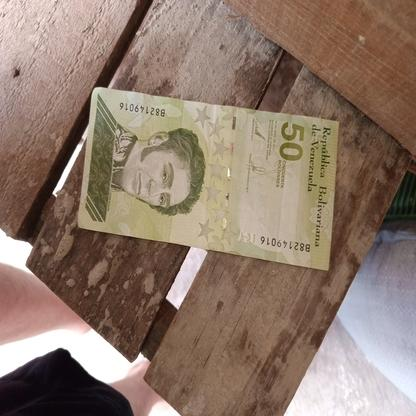fifty-front-vef: (77, 86, 340, 270)
